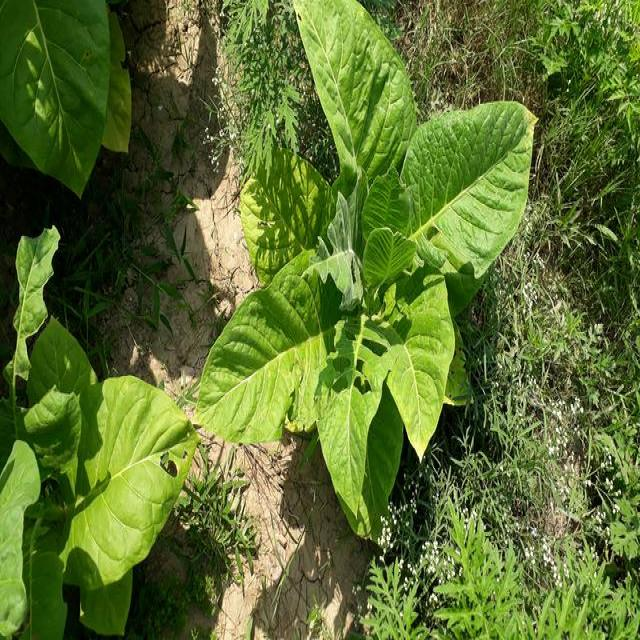crop: (197, 4, 539, 549)
